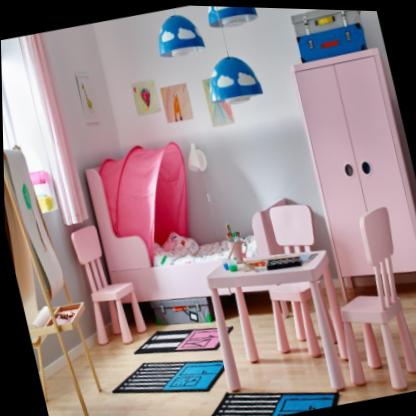Chair: (310, 197, 416, 399), (66, 215, 151, 351)
Table: (196, 231, 359, 412)
